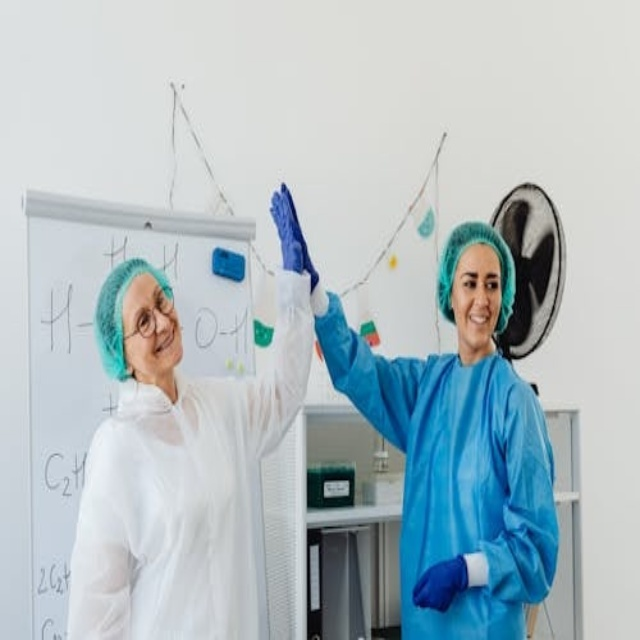Gafas: (115, 277, 179, 344)
Guantes: (270, 184, 322, 300), (412, 554, 471, 612)
Sin_gafas: (456, 263, 502, 292)
Sin_mascara: (146, 319, 182, 373), (465, 306, 494, 342)
